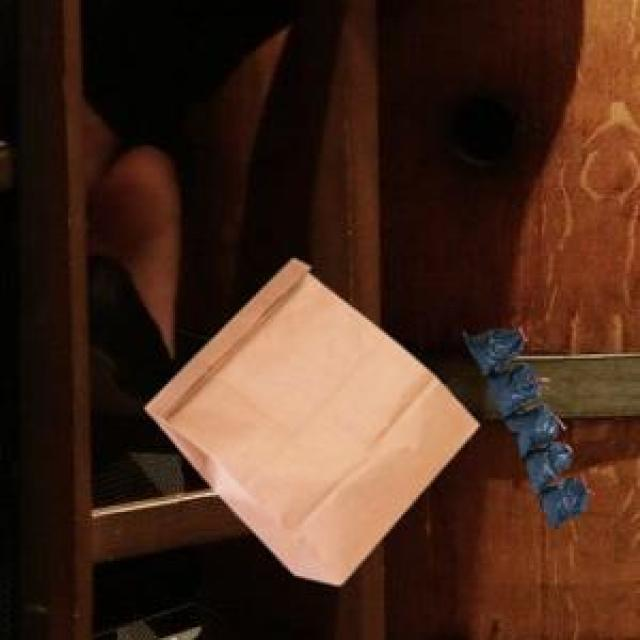miscellaneous trash: (460, 326, 585, 525)
paper: (141, 256, 474, 580)
